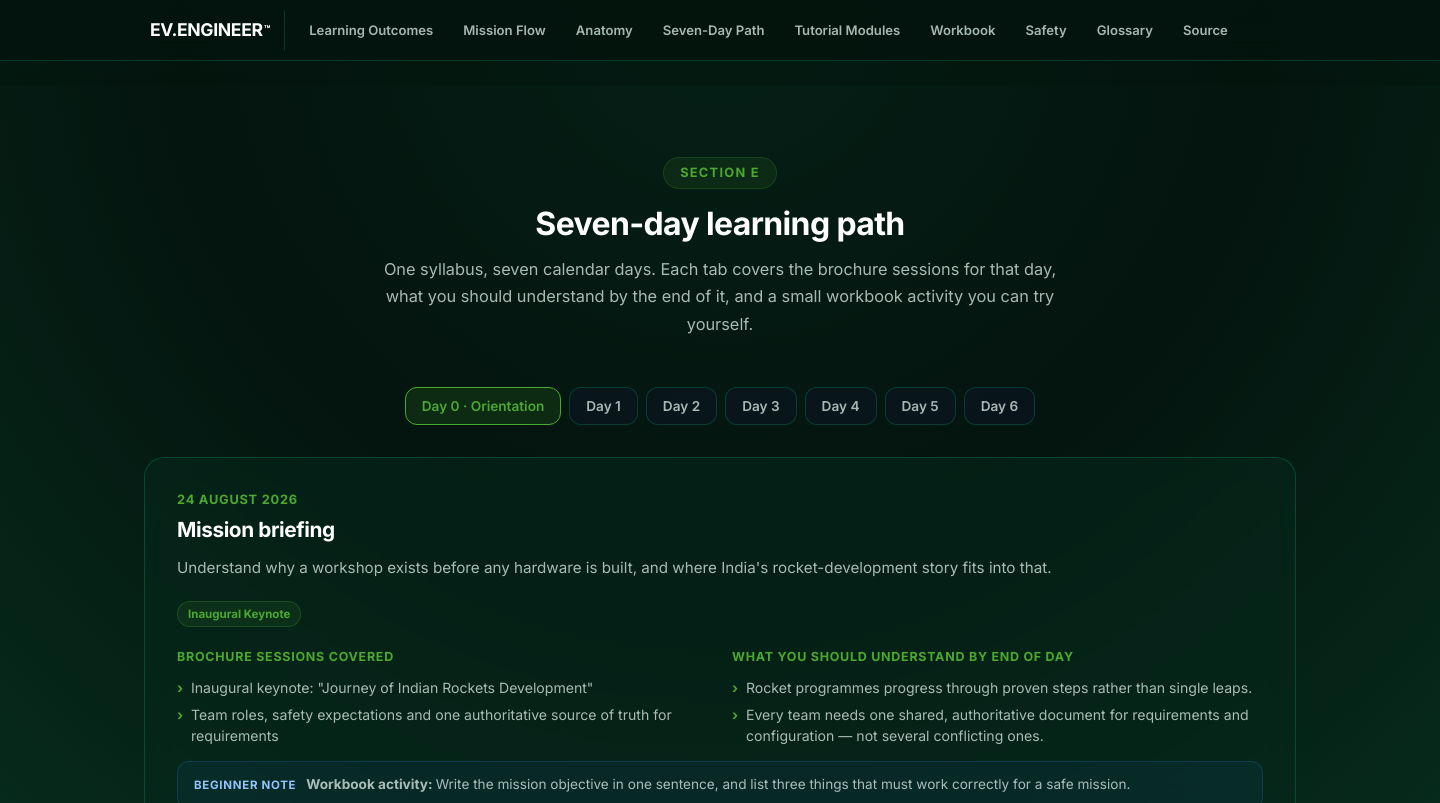
it: Model Rocketry learning guide page › keeps every day panel (including the Day 5 self-check quiz) server-rendered, revealing only the active one
(page scrolled)
Expected: the text "self-check quiz" is not shown
What coordinates should you click on to do the following:
click the tab "Day 5"
I would click on:
 (920, 406)
Its box is [884, 387, 956, 425].
(page scrolled)
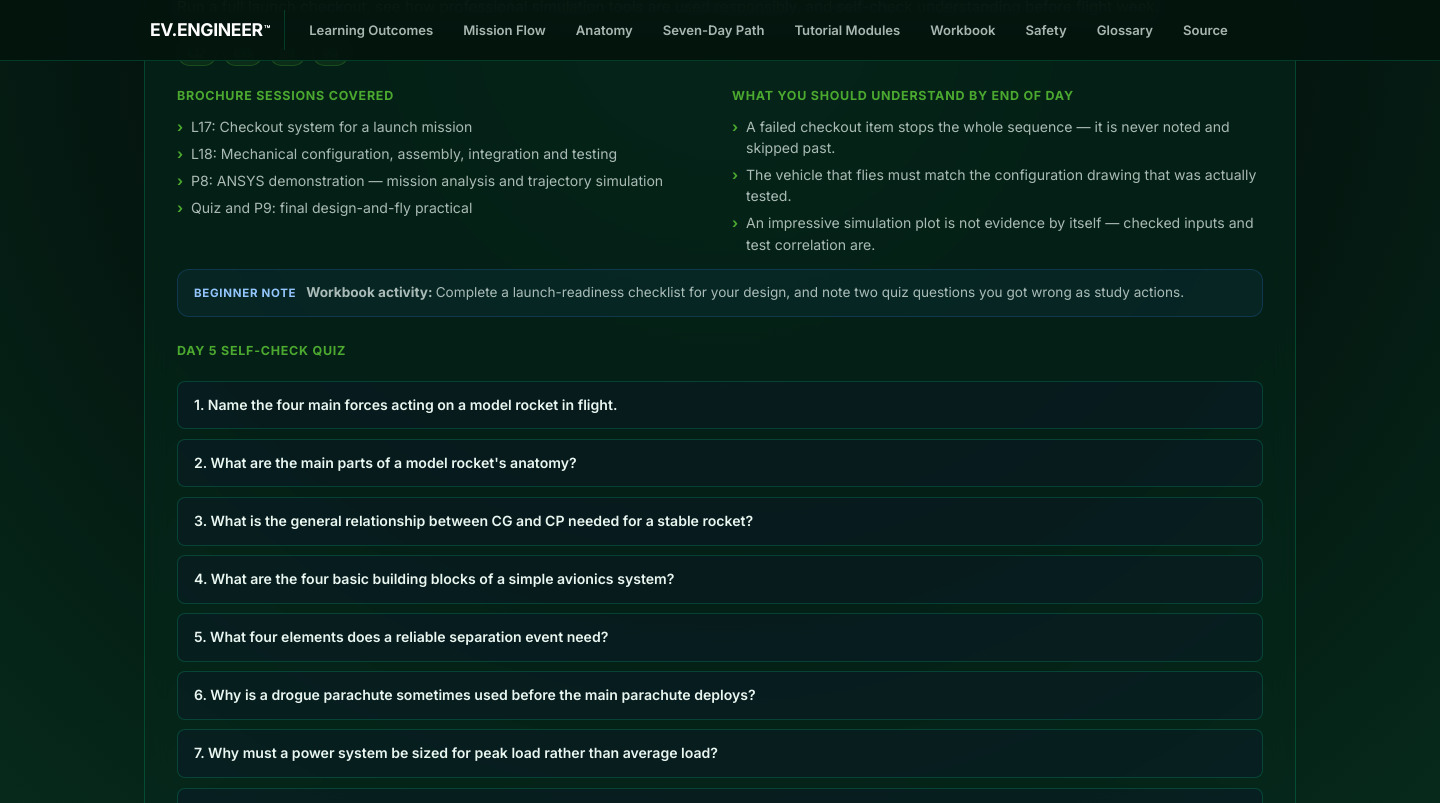
Result: the text "Day 5 self-check quiz" is shown at [177, 343, 346, 358]
Result: the heading "Name the four main forces acting on a model rocket in flight." is shown at [194, 396, 617, 413]
